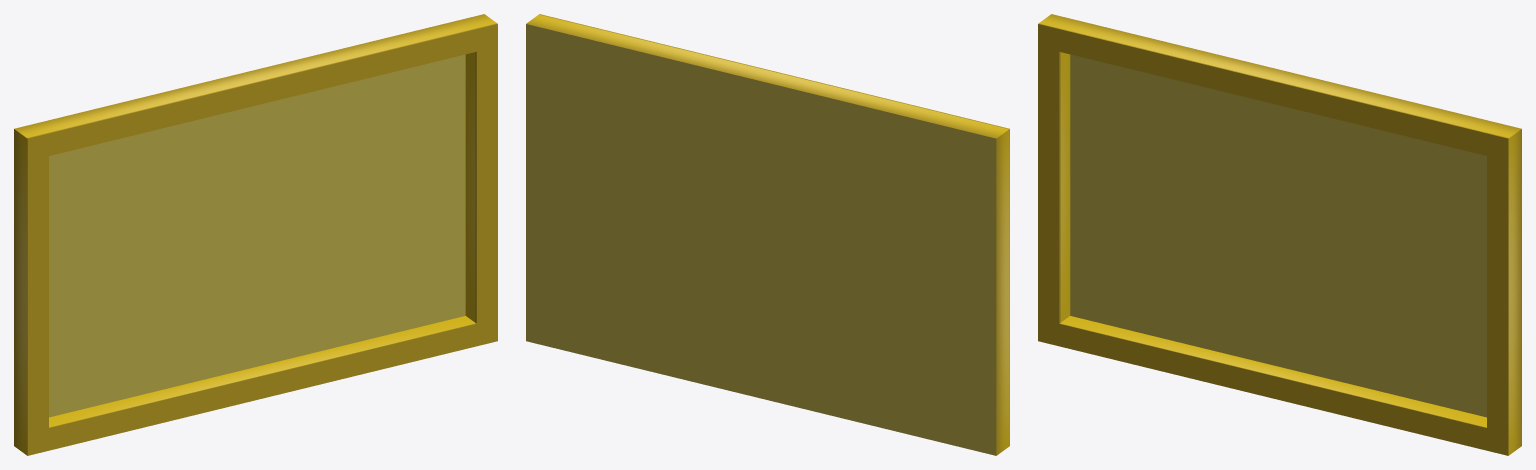
Rendered from CuadroHonorShow.fbx.
3 renders of one model, left to right at view 1: azimuth 30°, elevation 25°; view 2: azimuth 150°, elevation 25°; view 3: azimuth 330°, elevation 25°, orthographic.
Visible parts, largest first — view 1: Cube.181; view 2: Cube.181; view 3: Cube.181.
Boxes of the visible parts, x1,y1,x2,y2 form: Cube.181: (14, 14, 497, 455); Cube.181: (526, 14, 1009, 455); Cube.181: (1038, 14, 1521, 455).
Bounding box in the file's own units: 44.64 × 28.77 × 2.22.
